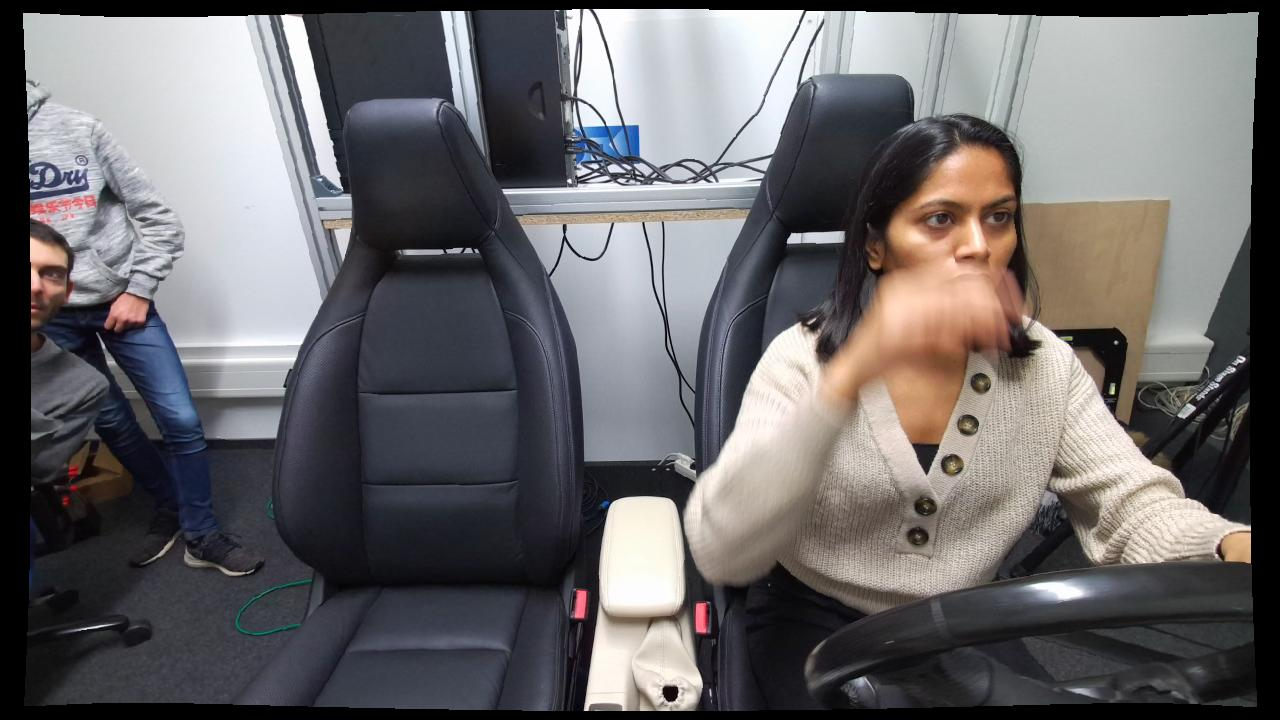Distracted: (680, 106, 1106, 706)
